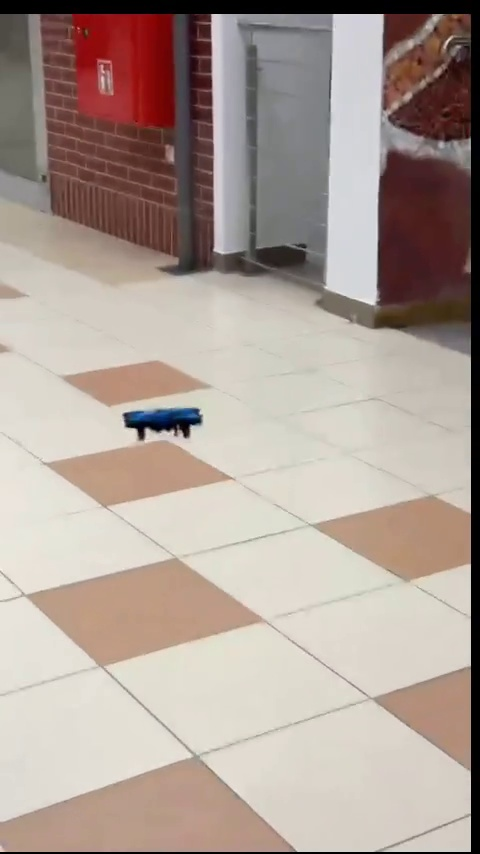drone: (126, 400, 204, 440)
